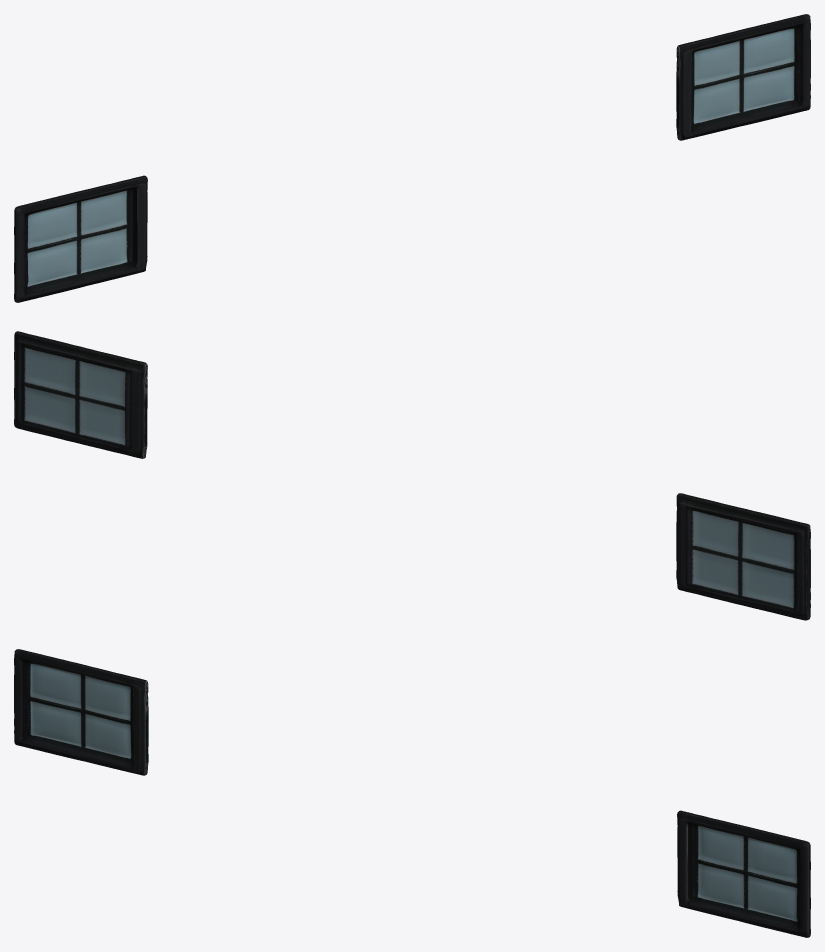
The model's file is VentanaCuadradaPequqe.fbx.
The picture shows the model from 3 angles, top to bottom: view 1: azimuth 30°, elevation 25°; view 2: azimuth 150°, elevation 25°; view 3: azimuth 330°, elevation 25°; orthographic projection.
Visible parts, largest first — view 1: VentanaCuadrada2.001; view 2: VentanaCuadrada2.001; view 3: VentanaCuadrada2.001.
Boxes of the visible parts, x1,y1,x2,y2 form: VentanaCuadrada2.001: (14,14,810,302); VentanaCuadrada2.001: (14,331,810,620); VentanaCuadrada2.001: (14,649,810,937).
Size of the model in its own units: 1228 by 141 by 18.36.
